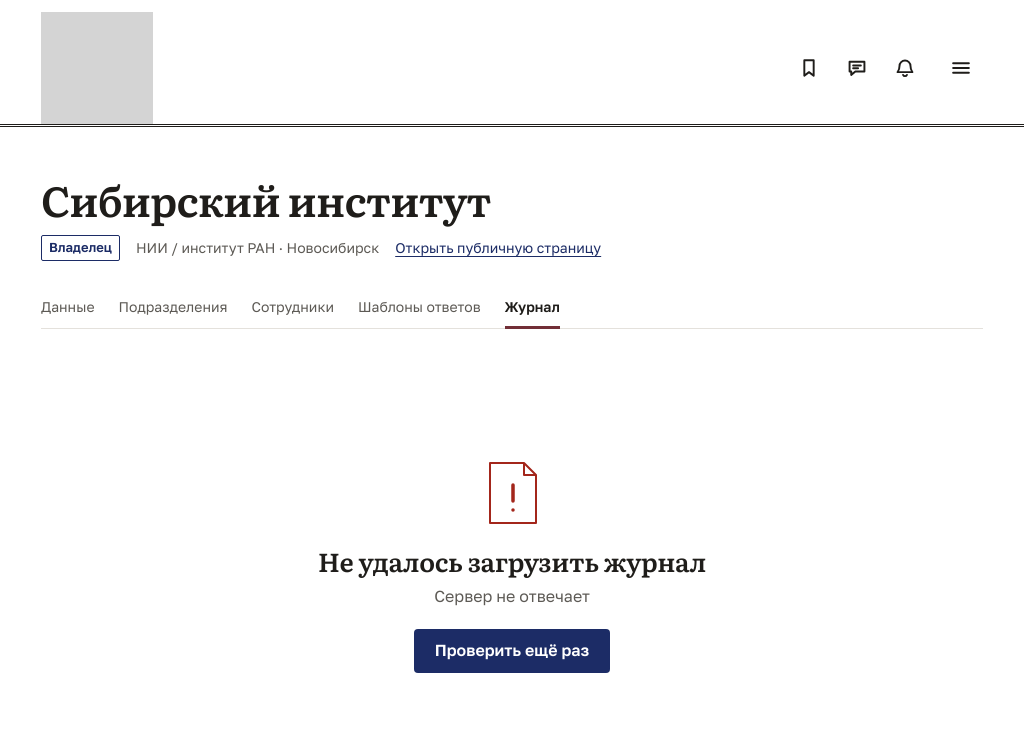
Test: audit log page › shows loading, then an error with retry
This screenshot has width=1024, height=752.
Check: the message shows "Не удалось загрузить журнал", box [318, 540, 706, 580]
Click the button "Проверить ещё раз" at (512, 651), box [414, 629, 610, 673]
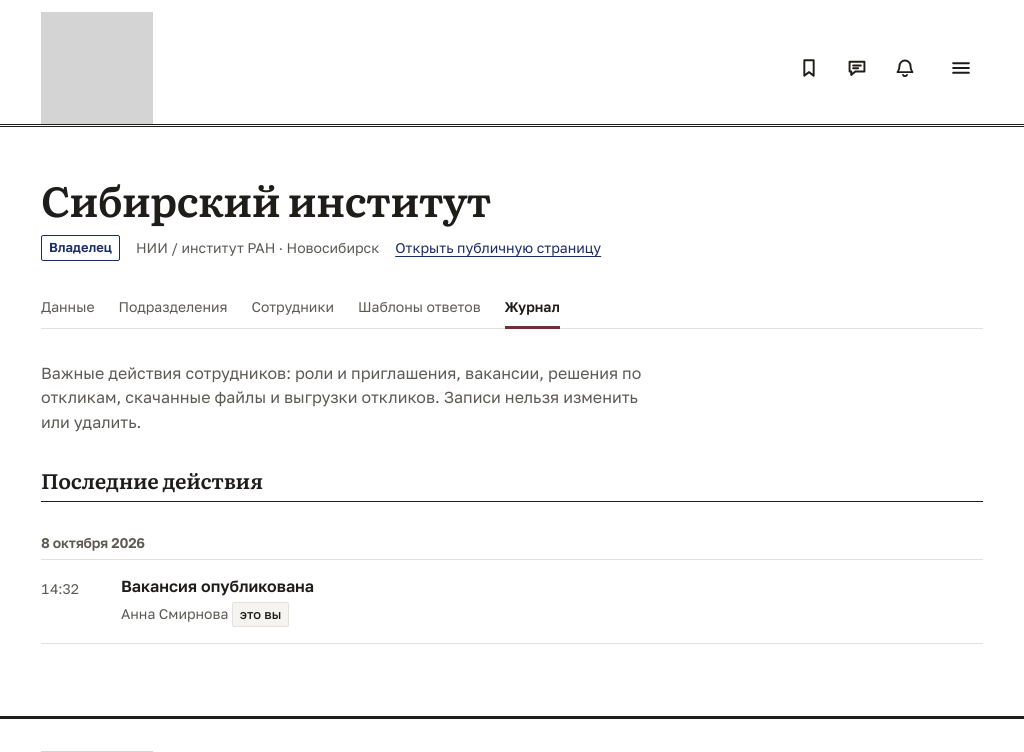
Check: the text "Вакансия опубликована" is shown, box [121, 576, 314, 596]
